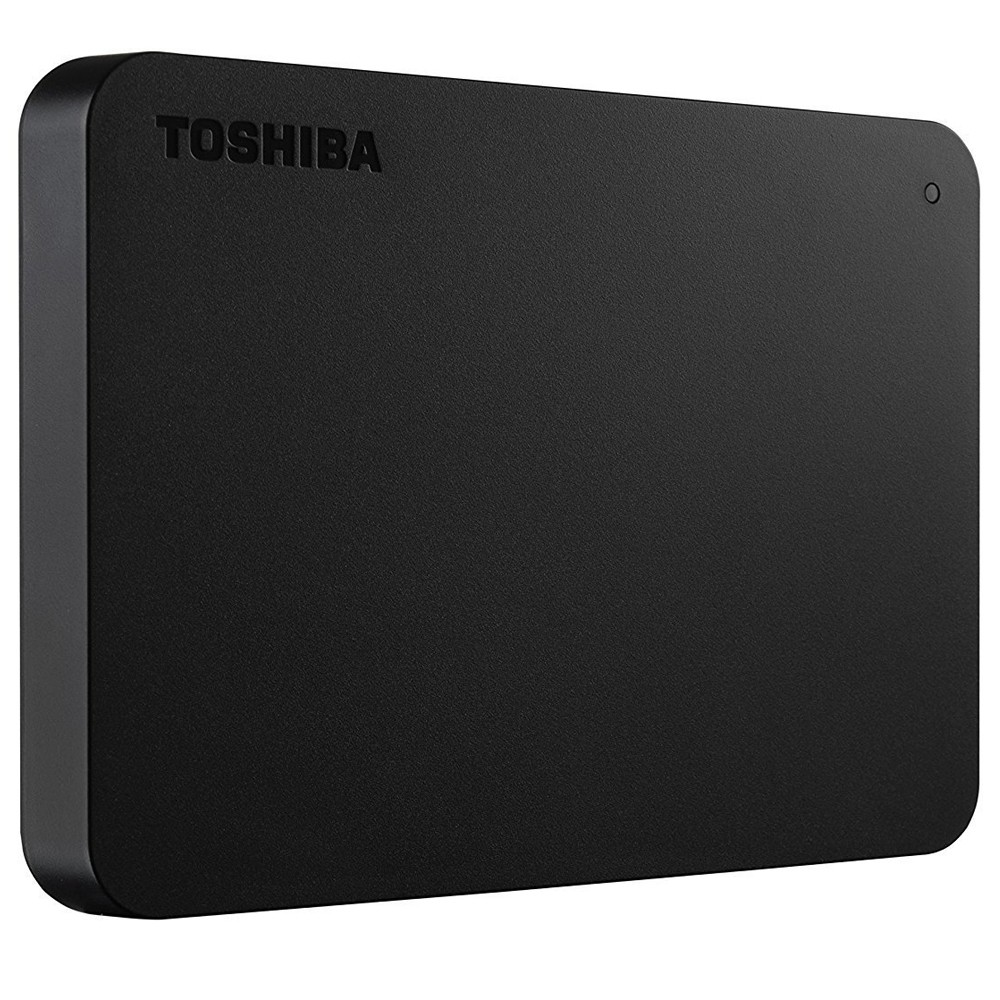Portable Hard Drive: (7, 48, 993, 925)
